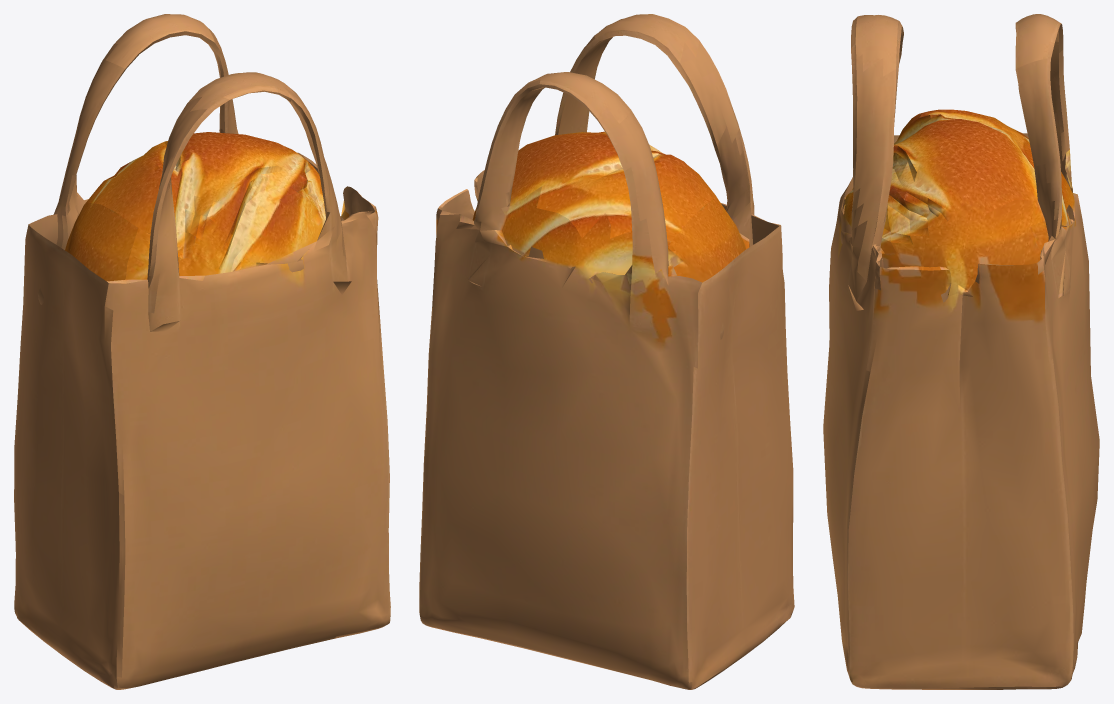
The model's file is ekmek-posu.glb.
The picture shows the model from 3 angles, left to right: view 1: azimuth 30°, elevation 25°; view 2: azimuth 150°, elevation 25°; view 3: azimuth 270°, elevation 25°; orthographic projection. The views are drawn at different scales.
Parts seen in each view (by area): view 1: Mesh0; view 2: Mesh0; view 3: Mesh0.
Part boxes in pixels (x1,y1,x2,y2): Mesh0: (14, 14, 390, 689); Mesh0: (419, 14, 794, 689); Mesh0: (823, 14, 1099, 689).
Size of the model in its own units: 0.9698 by 1.9 by 0.7945.
Materials: 1 (1 with a texture image).
